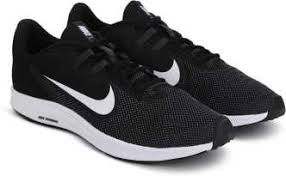nike: (33, 62, 140, 122)
